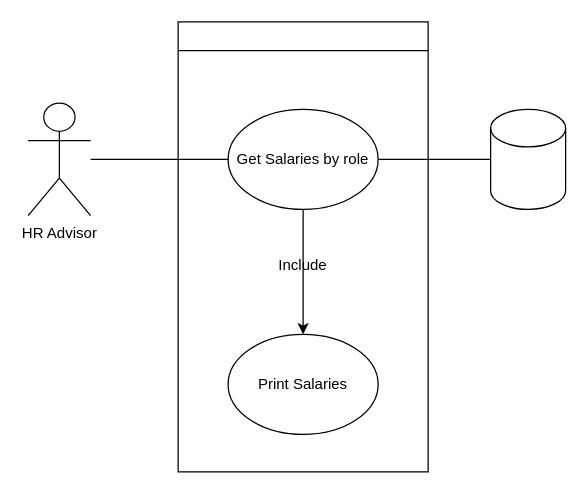
Some shapes in this 588 by 494 pixel diagram are drawn without their labels. Each missing label, with the box of its shape:
Database: (489, 108, 566, 209)
HR System: (177, 21, 428, 472)
